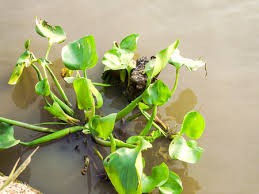water_hyacinth: (0, 18, 204, 194)
